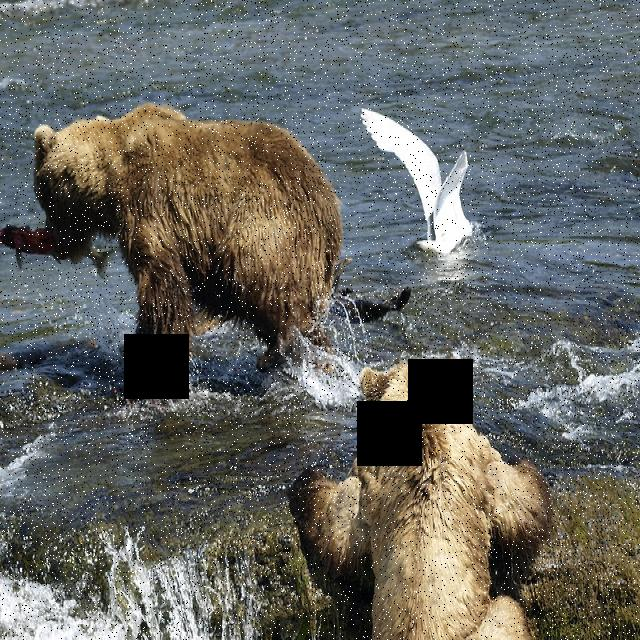Bear: (21, 96, 342, 376), (304, 362, 561, 640)
